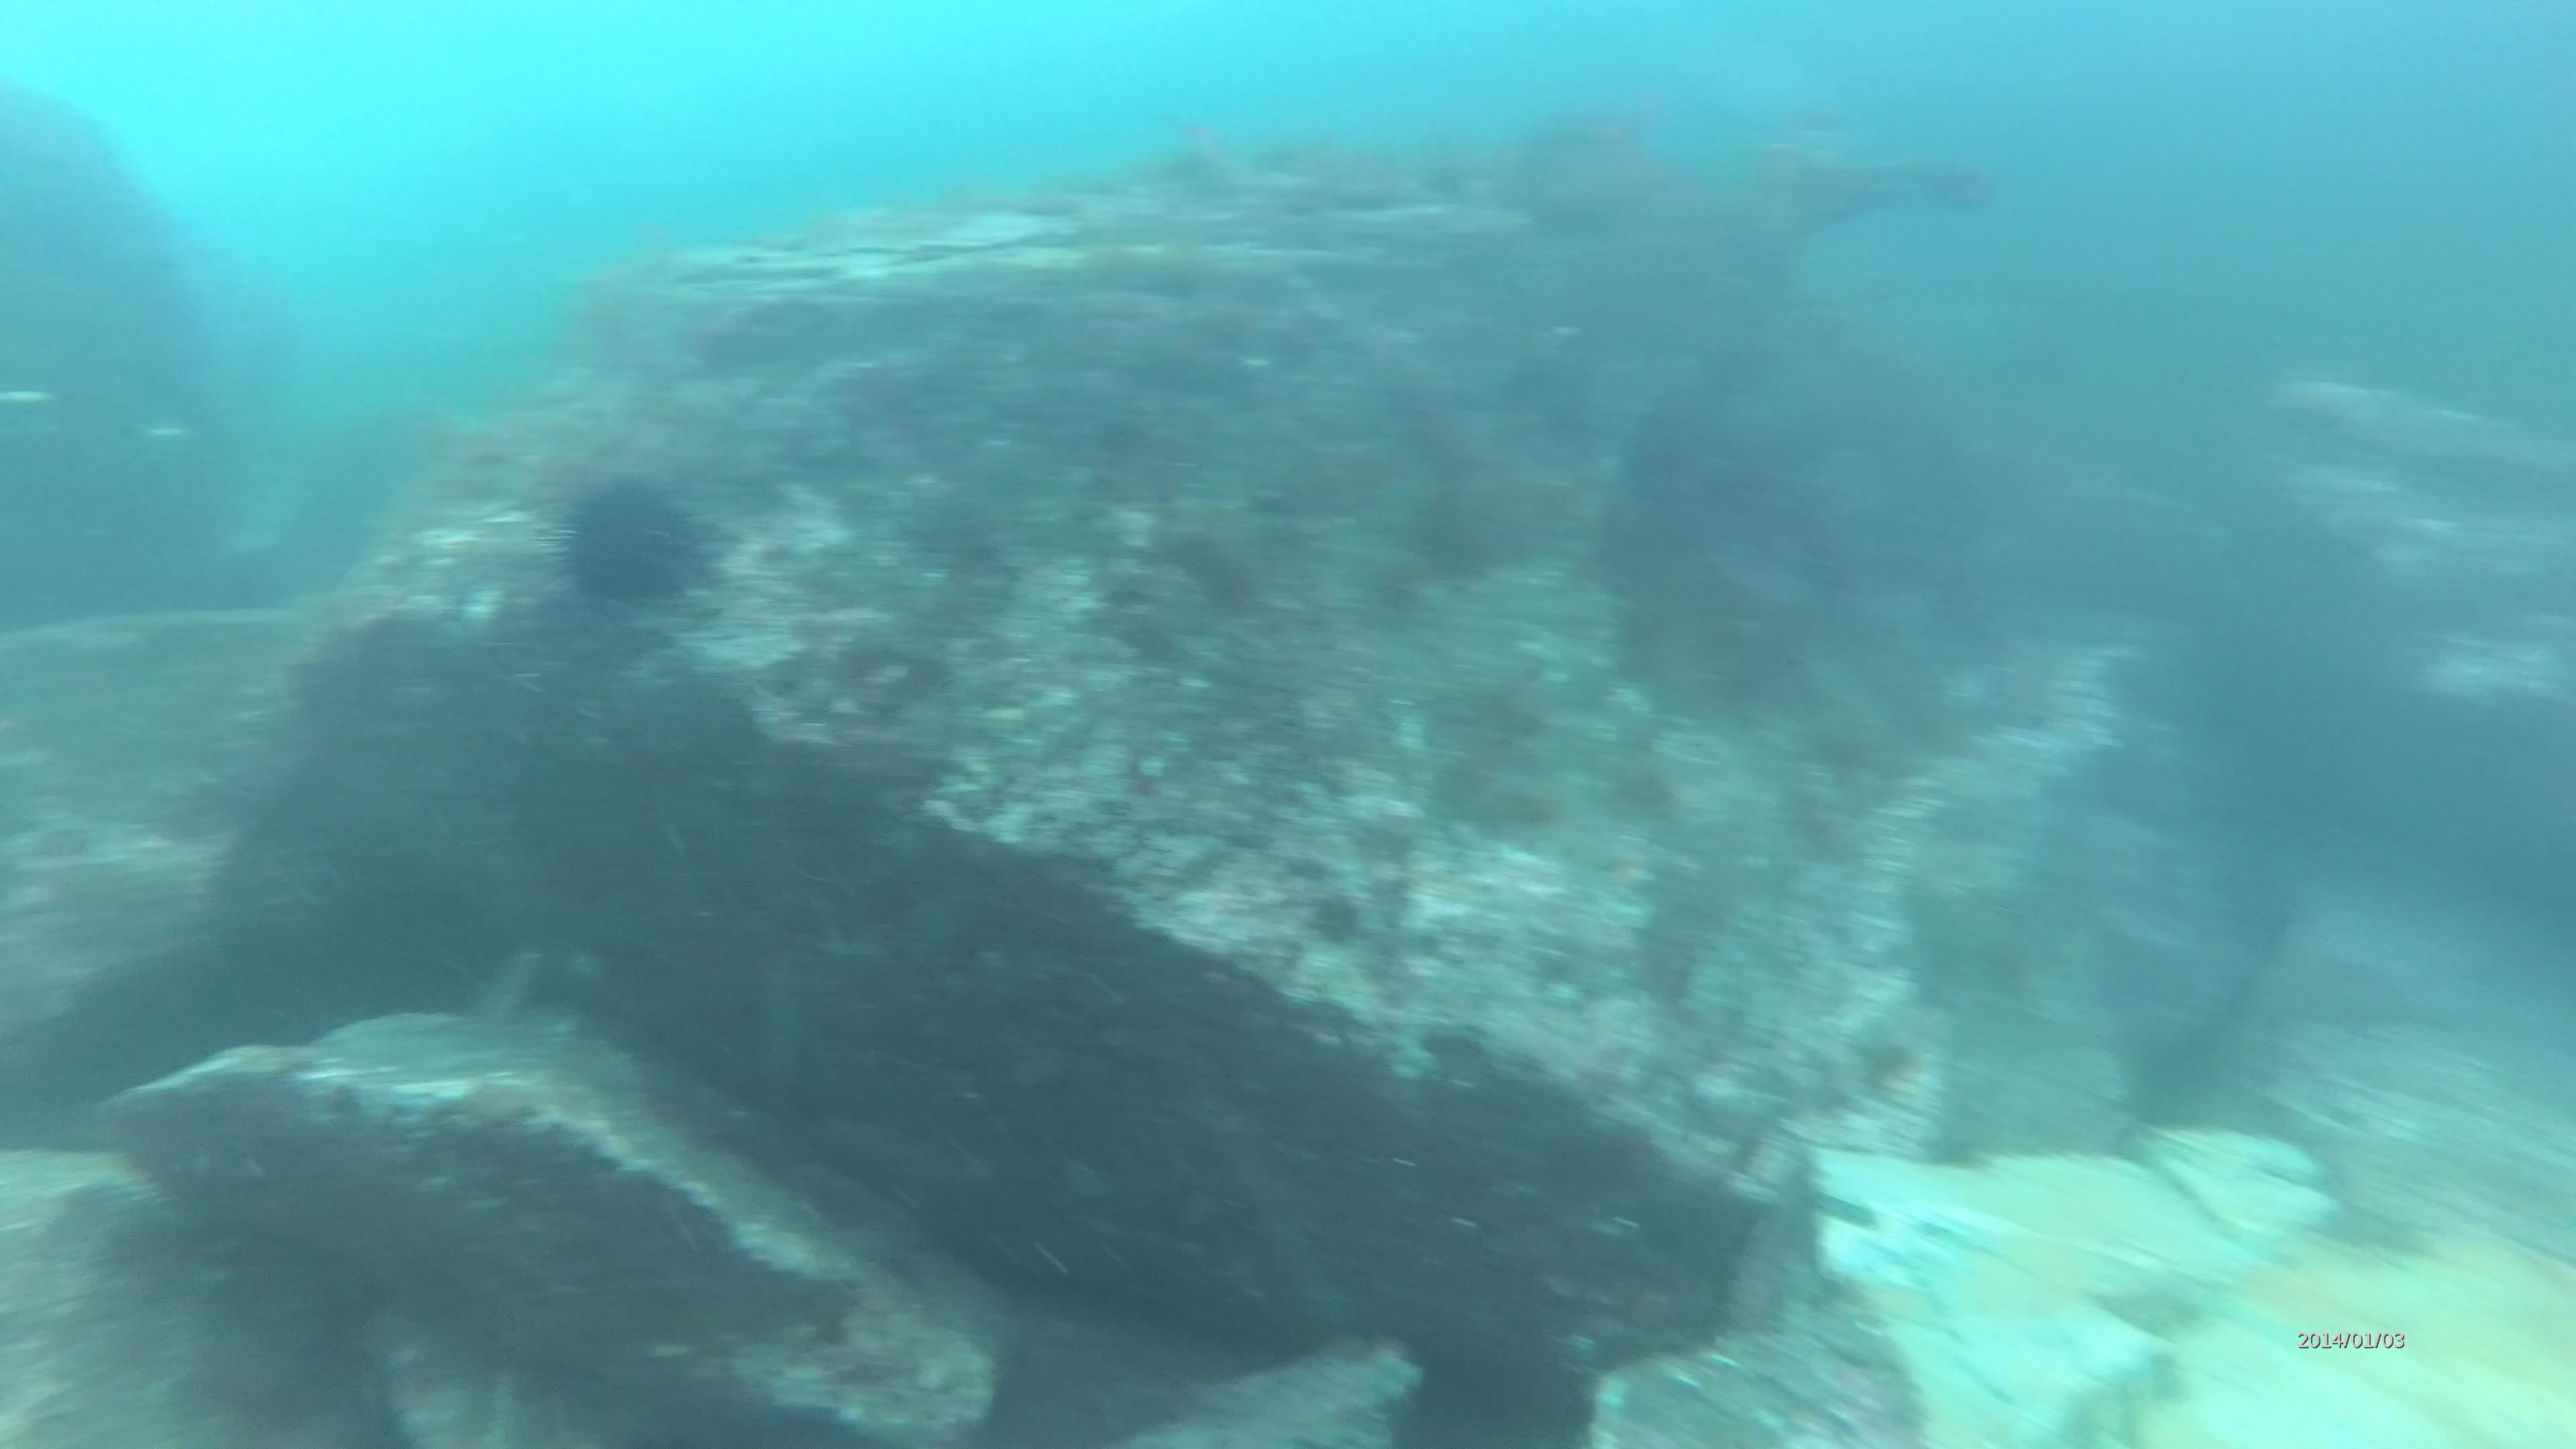echinus: (550, 460, 720, 632)
